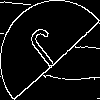J: (25, 25, 71, 76)
